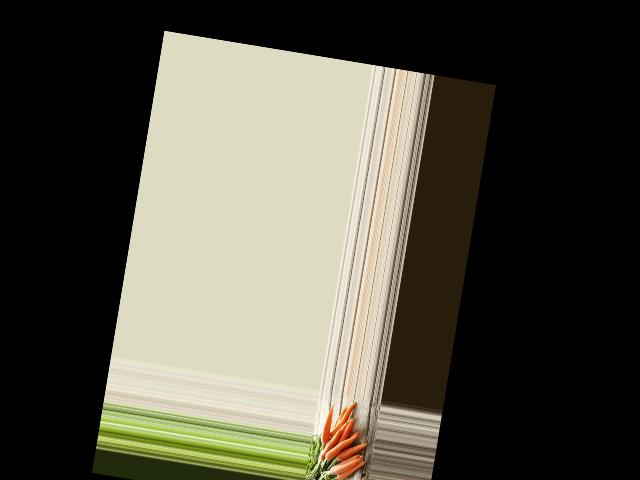carrot: (317, 404, 335, 443)
